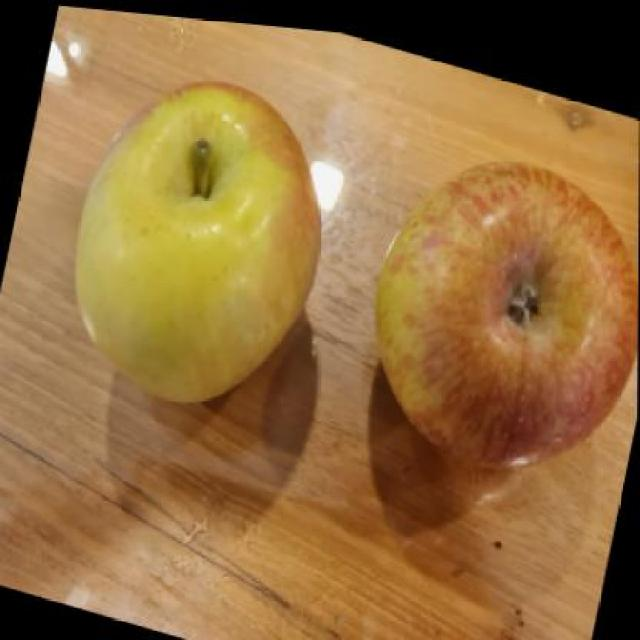Fresh Apple: (60, 77, 326, 412), (364, 154, 640, 475)
